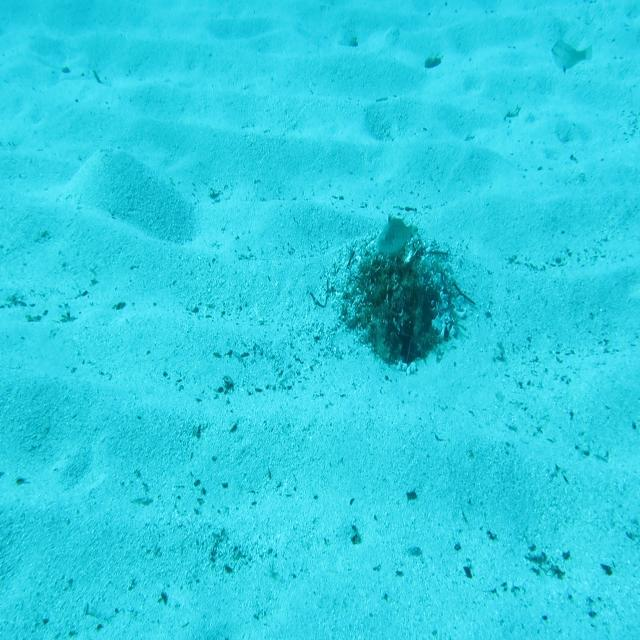BEND: (374, 210, 427, 258)
female: (546, 37, 599, 75)
nest: (342, 222, 466, 367)
